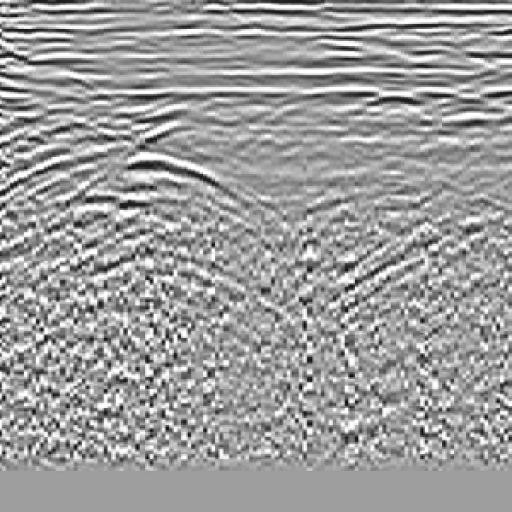metalic: (280, 64, 494, 296)
non-metallic: (22, 127, 272, 233)
